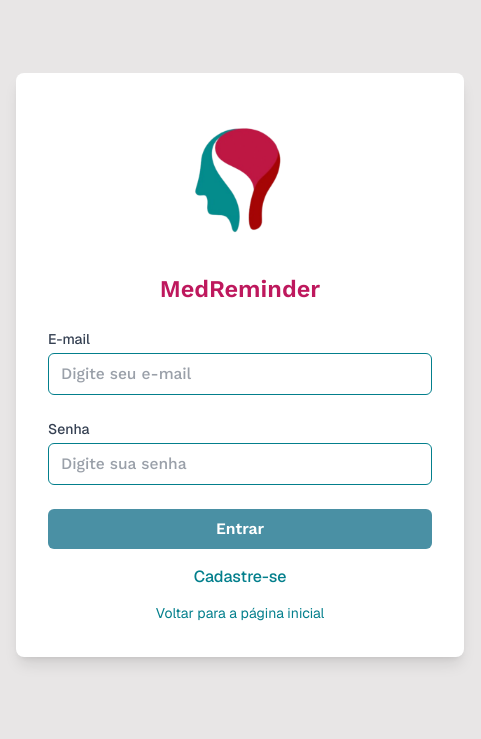
Test case: NET-02 NET-03 login feedback › ERR-12 perfil inválido {} preserva logout e feedback
Type "pessoa@example.test" into the field labelled "E-mail". click: point(240, 374)
box: [48,353,432,395]
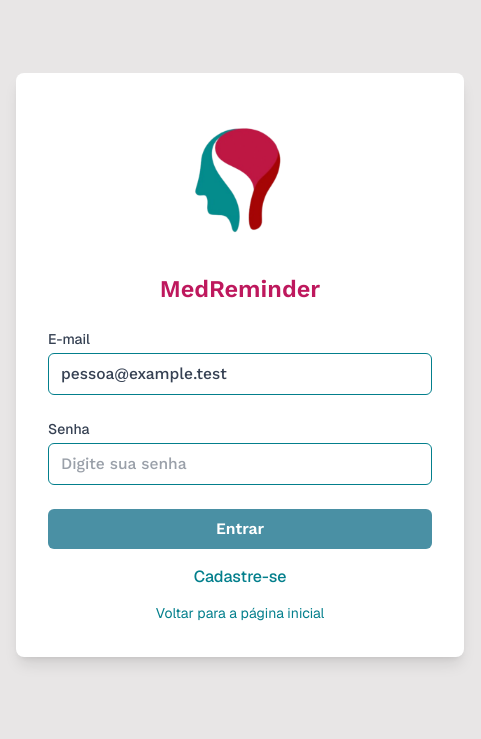
Type "Senha123!" into the password field labelled "Senha". click: point(240, 464)
box: [48,443,432,485]
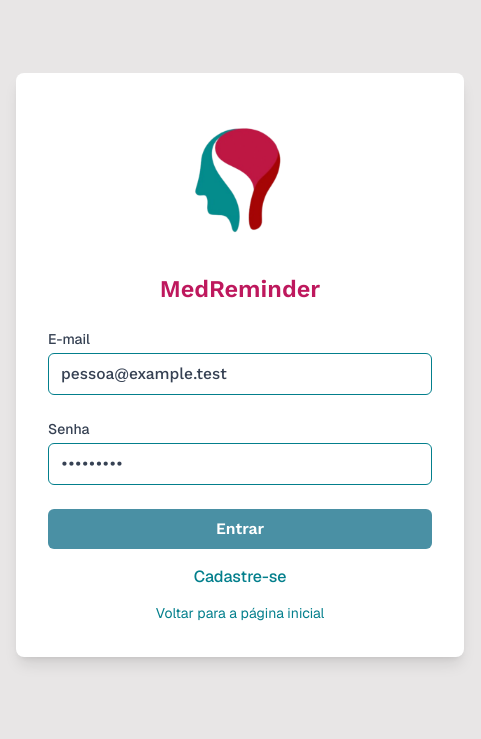
Click the button "Entrar". click: point(240, 529)
box: [48,509,432,549]
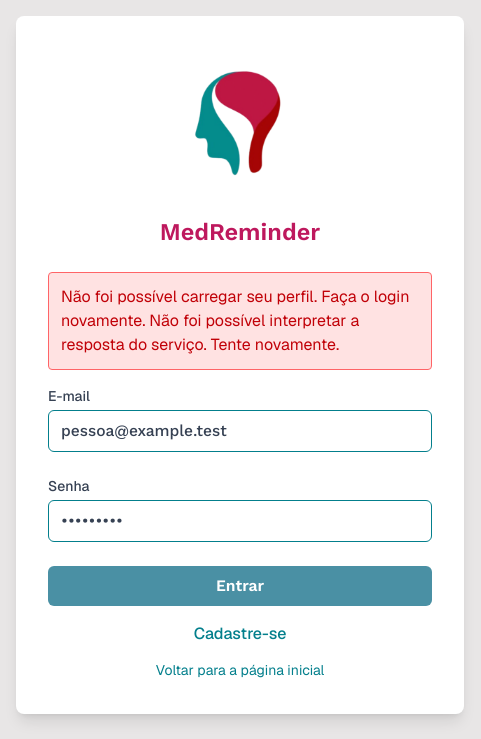
Result: the message shows "Não foi possível carregar seu perfil. Faça o login novamente." at [61,286,410,355]
